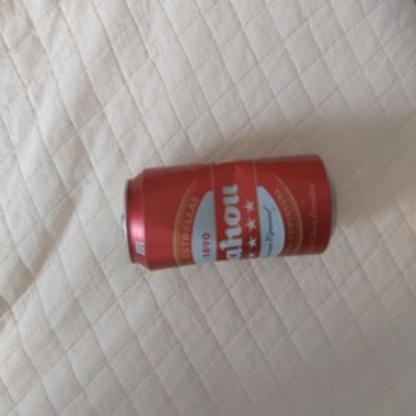Can: (125, 154, 338, 272)
